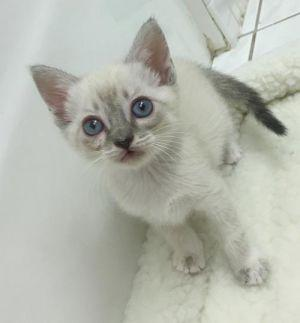siamese: (30, 17, 187, 179)
